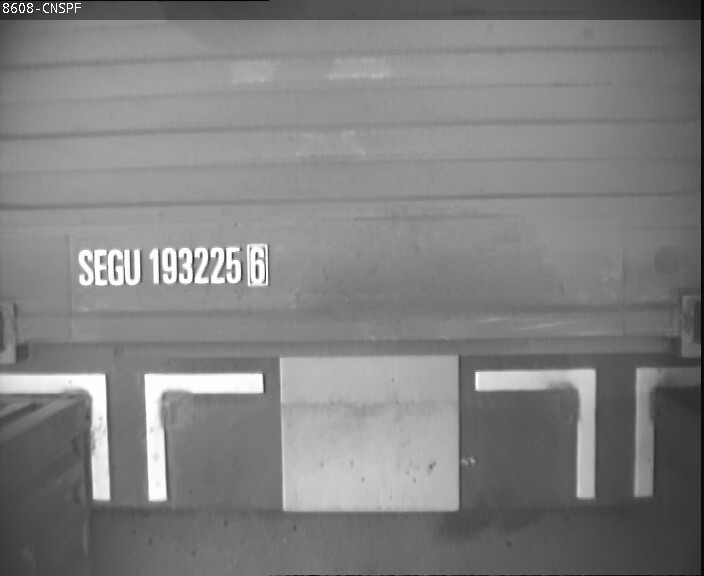groundmarker_1: (7, 372, 262, 502), (478, 366, 702, 497)
